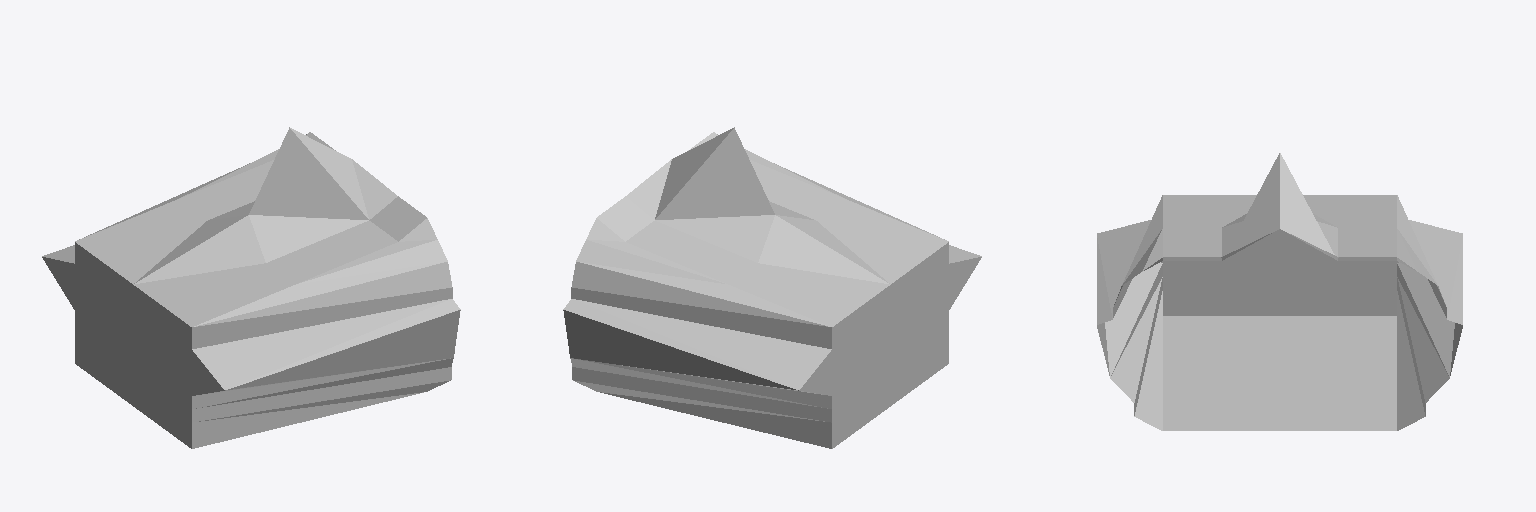
The model's file is bossNeck.obj.
3 views of the same model, side by side, from view 1: azimuth 30°, elevation 25°; view 2: azimuth 150°, elevation 25°; view 3: azimuth 270°, elevation 25° (orthographic).
Parts seen in each view (by area): view 1: kubi_立方体.003; view 2: kubi_立方体.003; view 3: kubi_立方体.003.
Boxes of the visible parts, box(x1,y1,x2,y2) form: kubi_立方体.003: box(42, 127, 460, 448); kubi_立方体.003: box(563, 127, 981, 448); kubi_立方体.003: box(1097, 153, 1462, 430).
Size of the model in its own units: 2.42 by 2.26 by 3.13.